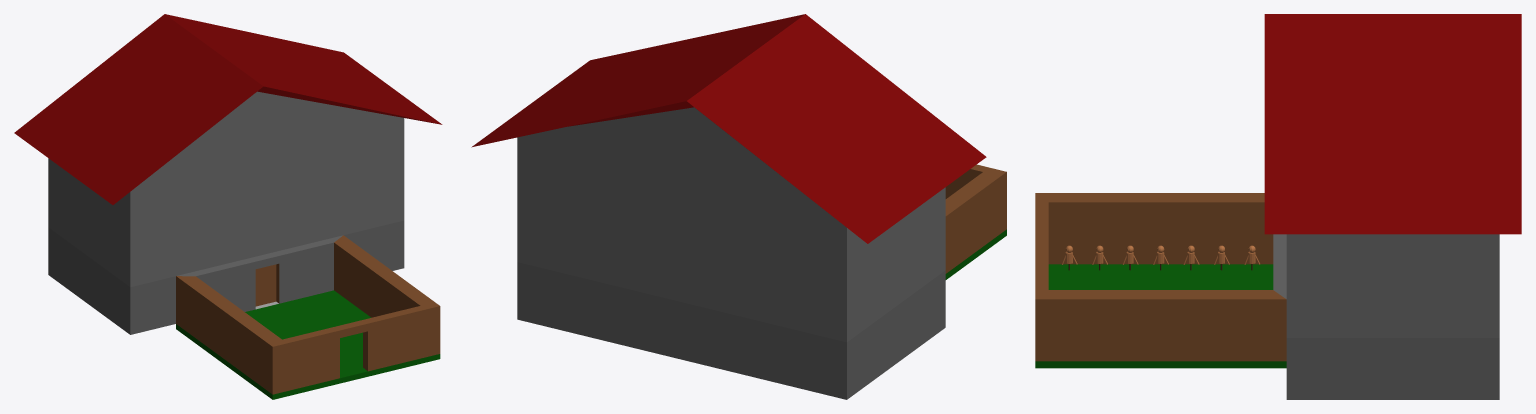
The model's file is Barrack.fbx.
The picture shows the model from 3 angles, left to right: view 1: azimuth 30°, elevation 25°; view 2: azimuth 150°, elevation 25°; view 3: azimuth 270°, elevation 25°; orthographic projection. The views are drawn at different scales.
Visible parts, largest first — view 1: pCube1, pCube2; view 2: pCube1; view 3: pCube1, pCube2.
Boxes of the visible parts, x1=… form: pCube1: x1=14, y1=14, x2=442, y2=394; pCube2: x1=176, y1=290, x2=440, y2=399; pCube1: x1=471, y1=14, x2=1006, y2=399; pCube1: x1=1035, y1=14, x2=1521, y2=399; pCube2: x1=1035, y1=264, x2=1286, y2=368.
Bounding box in the file's own units: 65.01 × 43.24 × 63.89.
